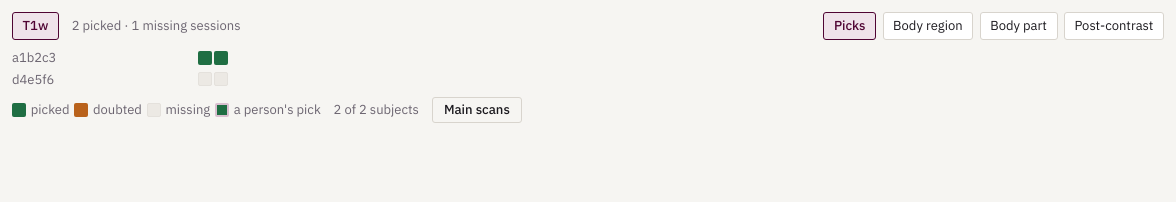
Test: the heatmap with a layer › says it does not show the step's progress where it cannot ask for it, with a Reload
Click the button "Body region" at x=928, y=26, box x1=882 y1=12 x2=973 y2=40
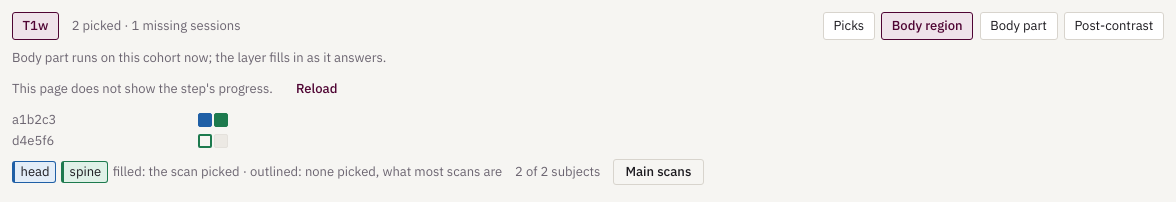
Result: the text "This page does not show the step's progress." is shown at x1=12 y1=80 x2=273 y2=97
